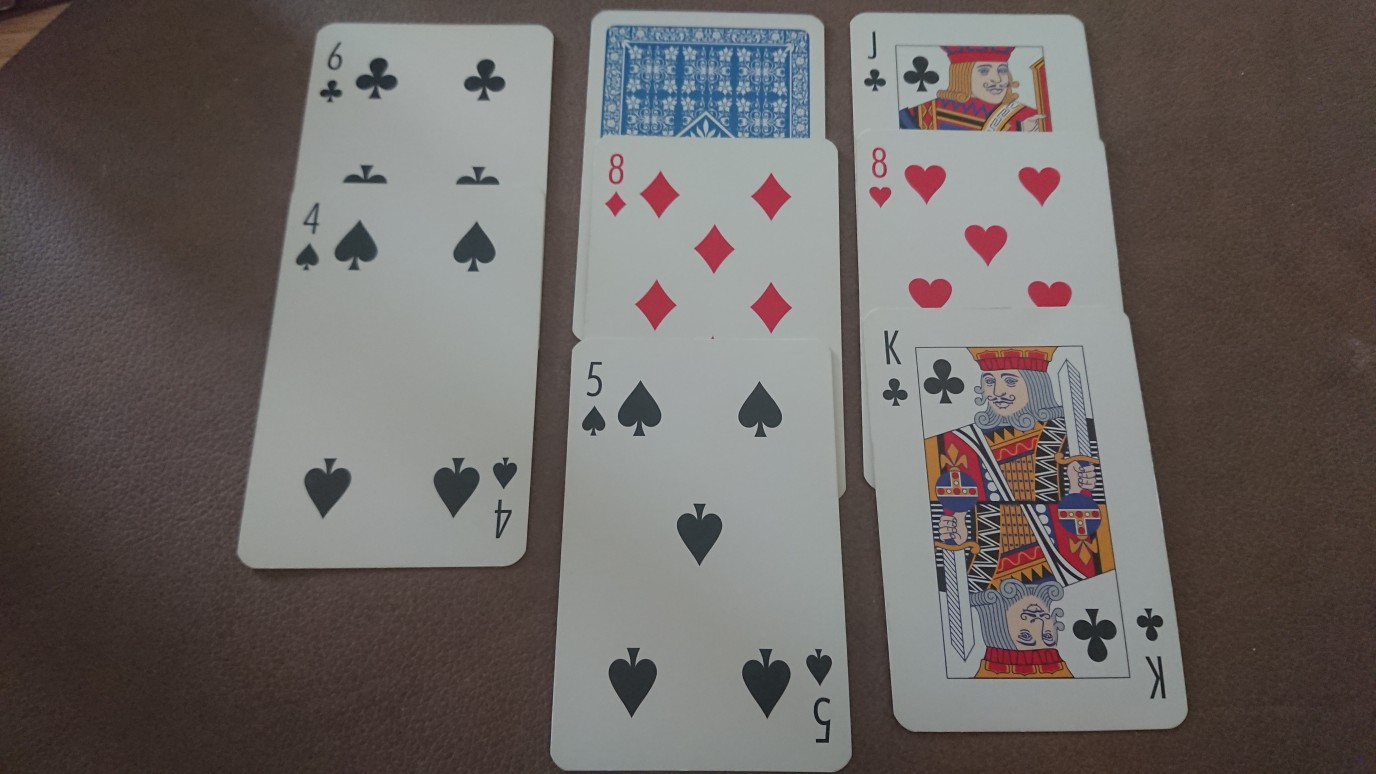4S: (292, 200, 325, 278)
5S: (577, 356, 612, 443)
6C: (318, 38, 348, 107)
8D: (600, 148, 631, 222)
8H: (864, 143, 894, 213)
BACK: (583, 6, 830, 140)
JC: (858, 26, 891, 95)
KC: (877, 325, 912, 410)
